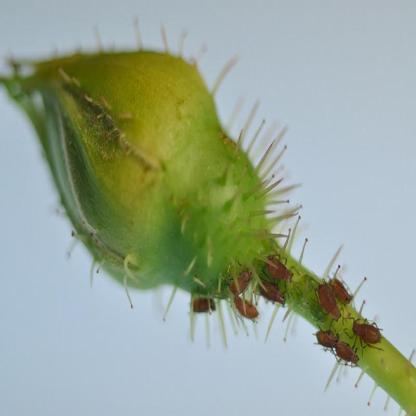aphid: (349, 314, 385, 353), (312, 282, 344, 323), (256, 273, 285, 310), (268, 247, 297, 283), (330, 271, 360, 305), (224, 263, 254, 295), (190, 287, 219, 320), (231, 290, 259, 323), (332, 335, 360, 367), (314, 322, 342, 352)
